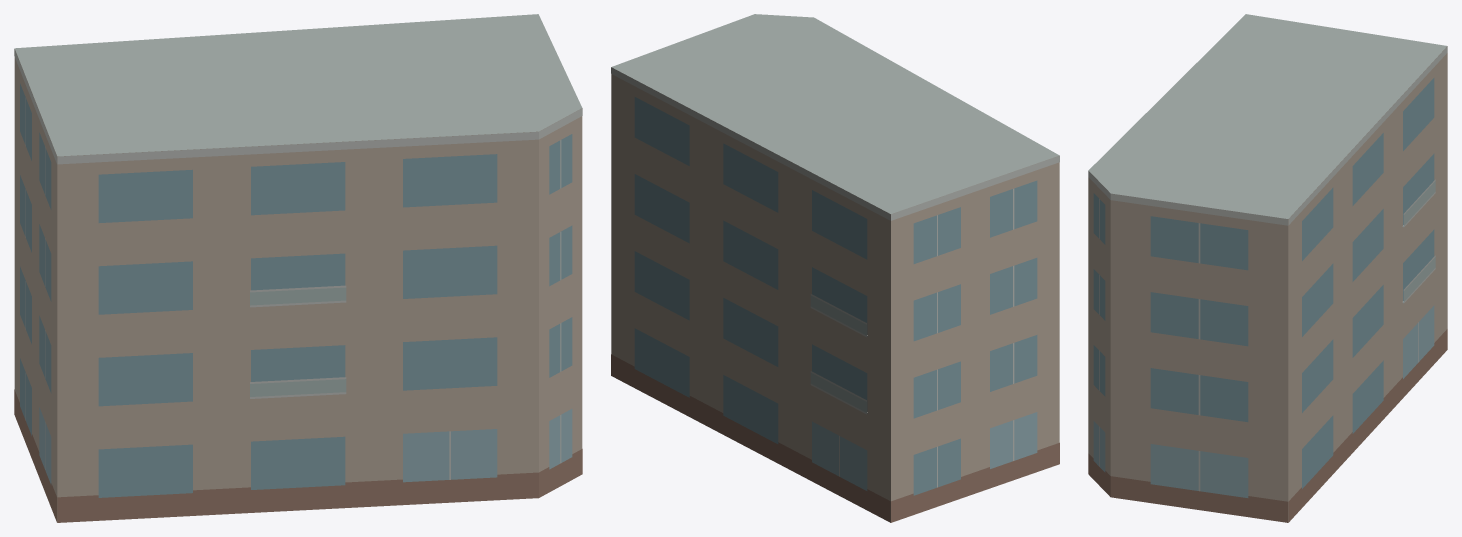
File: survey-upis-32879356.glb
3 renders of one model, left to right at view 1: azimuth 30°, elevation 25°; view 2: azimuth 150°, elevation 25°; view 3: azimuth 270°, elevation 25°, orthographic. The views are drawn at different scales.
Parts seen in each view (by area): view 1: survey-upis-32879356.tmp; view 2: survey-upis-32879356.tmp; view 3: survey-upis-32879356.tmp.
Part boxes in pixels (left/top/right/bottom): survey-upis-32879356.tmp: left=14, top=14, right=582, bottom=522; survey-upis-32879356.tmp: left=611, top=14, right=1059, bottom=522; survey-upis-32879356.tmp: left=1088, top=14, right=1447, bottom=522.
Size of the model in its own units: 16.23 by 11.2 by 12.01.
